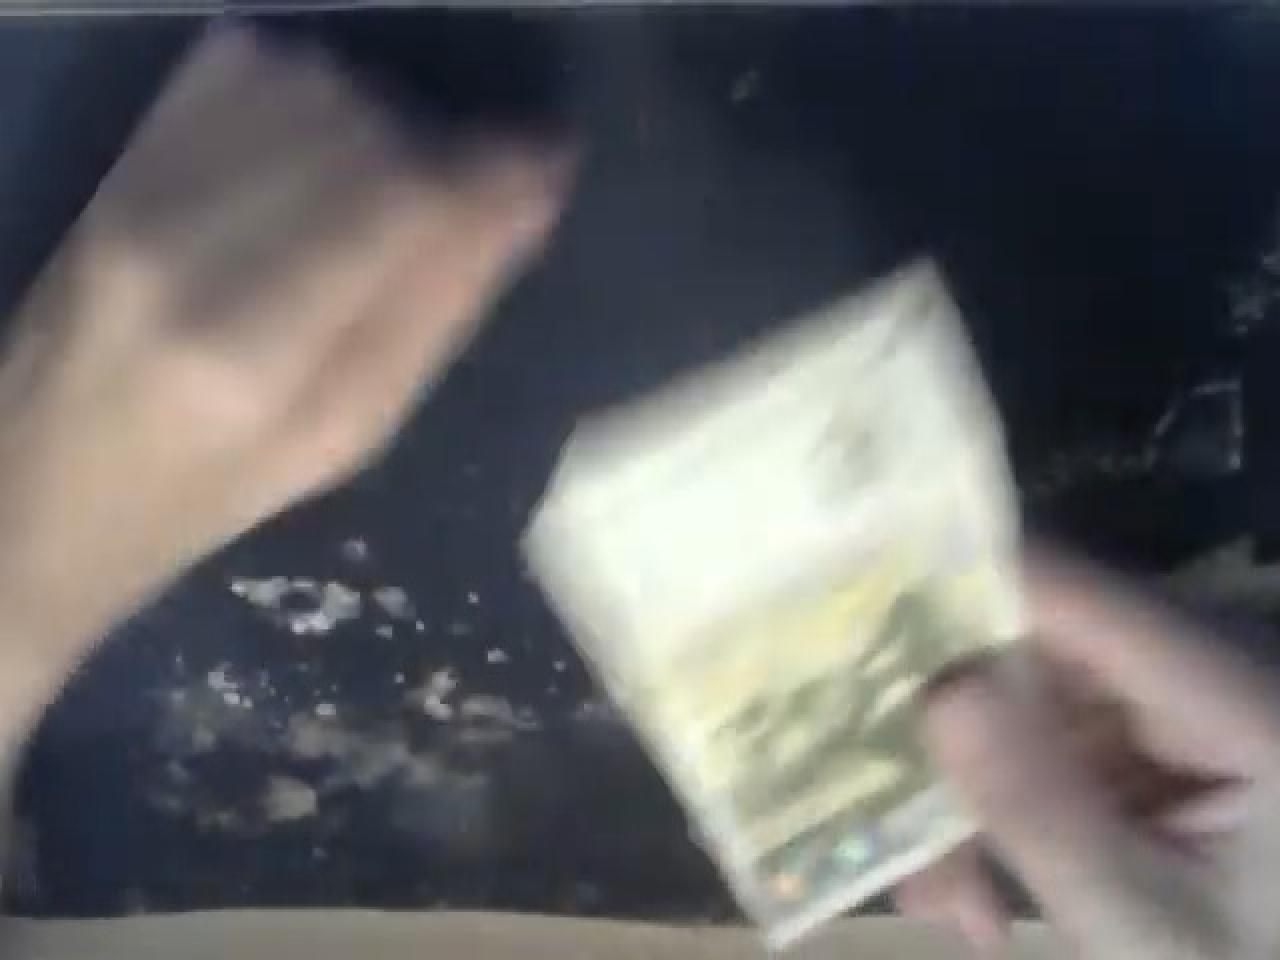10leva: (518, 251, 1034, 949)
